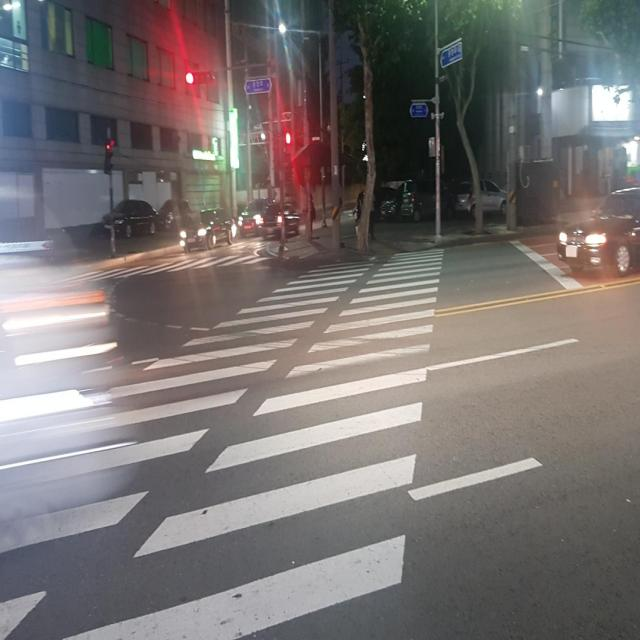횡단보도: (0, 238, 448, 640)
